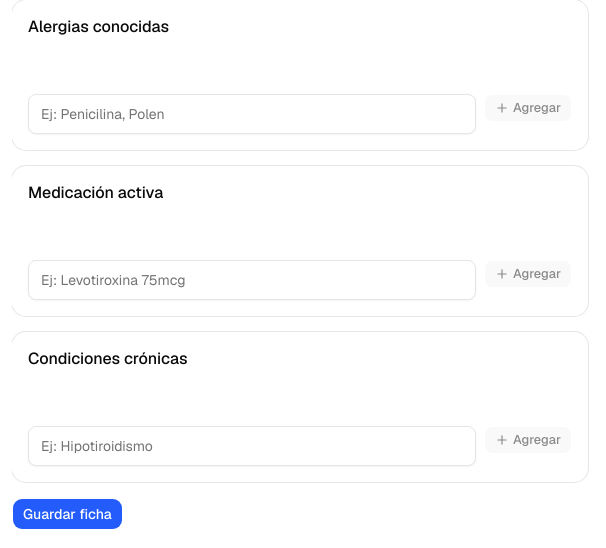
Scenario: HealthTab › can remove an allergy chip
In the field named "nueva entrada de alergias": {"x": 252, "y": 114} [28, 94, 476, 134], type "Mariscos"
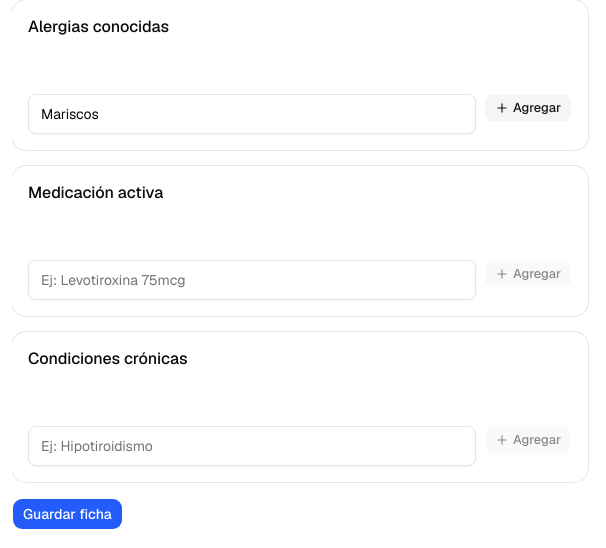
Click the button with aria-label "agregar alergias": {"x": 528, "y": 108} [484, 94, 572, 122]
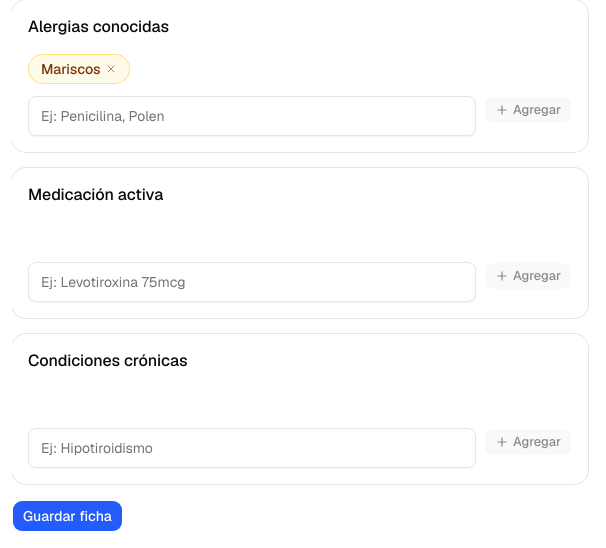
Click the button named "quitar Mariscos": {"x": 110, "y": 69} [104, 63, 116, 75]
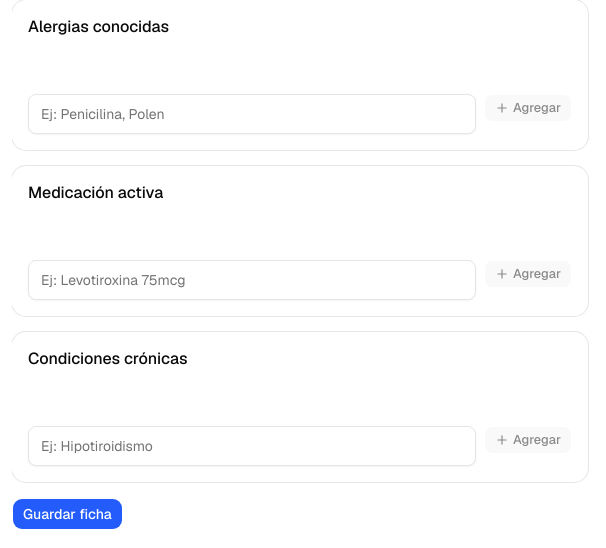
Check: the text "Mariscos" is gone
